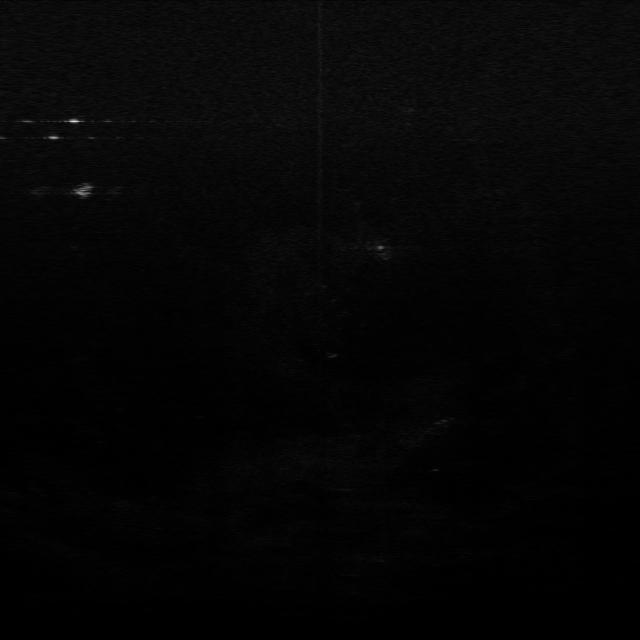rov: (70, 181, 100, 200)
